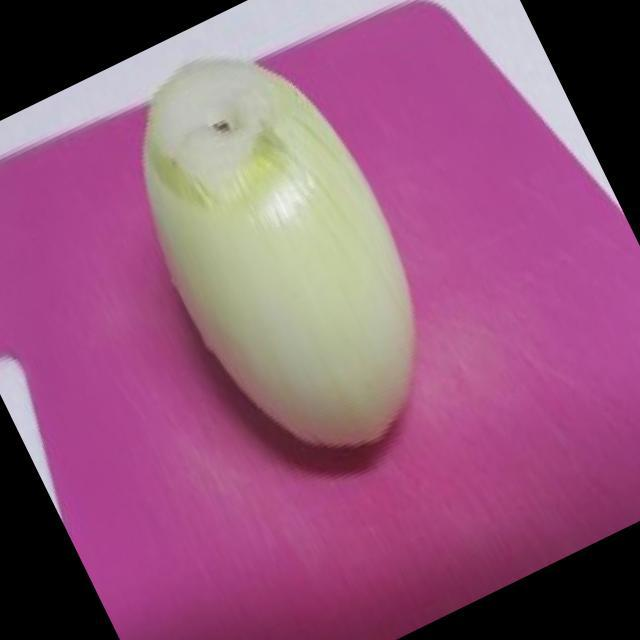Onion: (147, 62, 416, 446)
